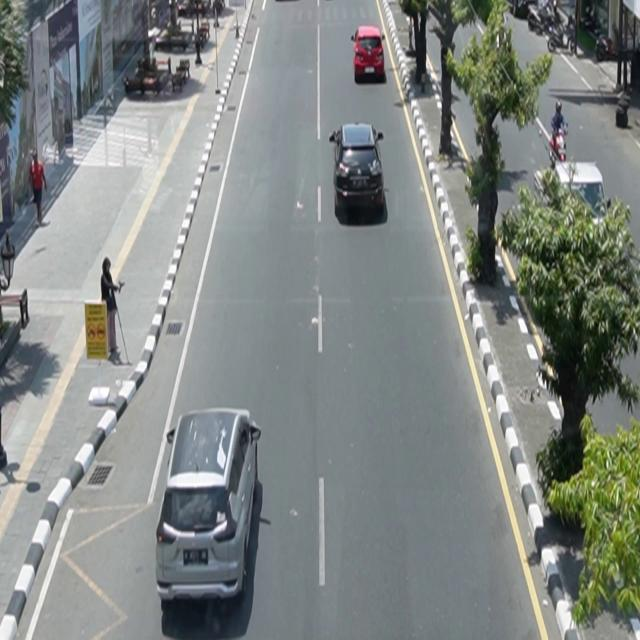car: (156, 407, 262, 607), (330, 122, 385, 214), (352, 25, 386, 84)
